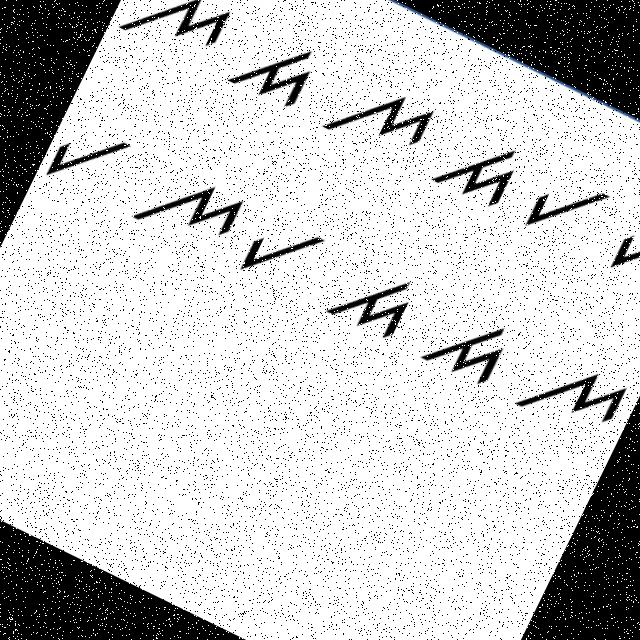da: (415, 118, 532, 234), (310, 242, 427, 354), (408, 290, 519, 394), (220, 18, 324, 121)
na: (502, 342, 634, 463), (316, 59, 444, 175), (123, 154, 248, 269), (102, 0, 240, 86)
pa: (225, 203, 336, 305), (509, 158, 612, 264), (35, 110, 136, 211), (590, 193, 639, 304)
